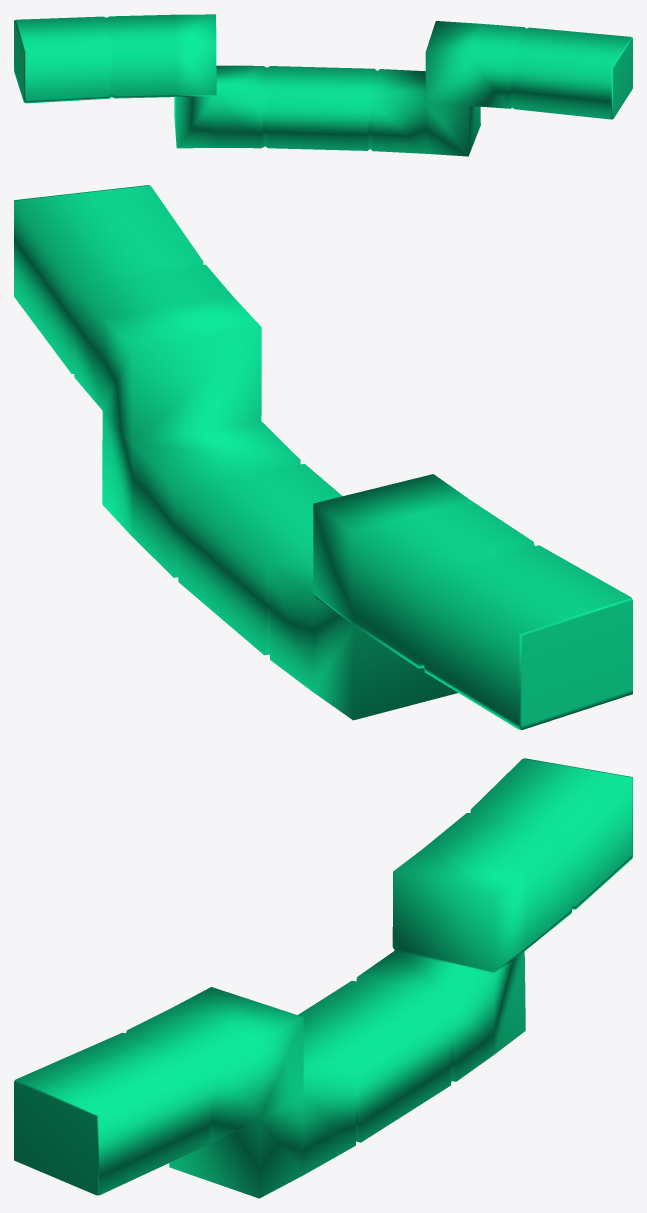
Rendered from Tower_Battlements_Module_01B.fbx.
3 renders of one model, top to bottom at view 1: azimuth 30°, elevation 25°; view 2: azimuth 150°, elevation 25°; view 3: azimuth 270°, elevation 25°, orthographic. The views are drawn at different scales.
Parts seen in each view (by area): view 1: Tower_Battlements_Module_01B; view 2: Tower_Battlements_Module_01B; view 3: Tower_Battlements_Module_01B.
Part boxes in pixels (x1,y1,x2,y2): Tower_Battlements_Module_01B: (14,14,632,156); Tower_Battlements_Module_01B: (14,185,632,729); Tower_Battlements_Module_01B: (14,758,632,1198).
Bounding box in the file's own units: 272 × 56.31 × 199.
